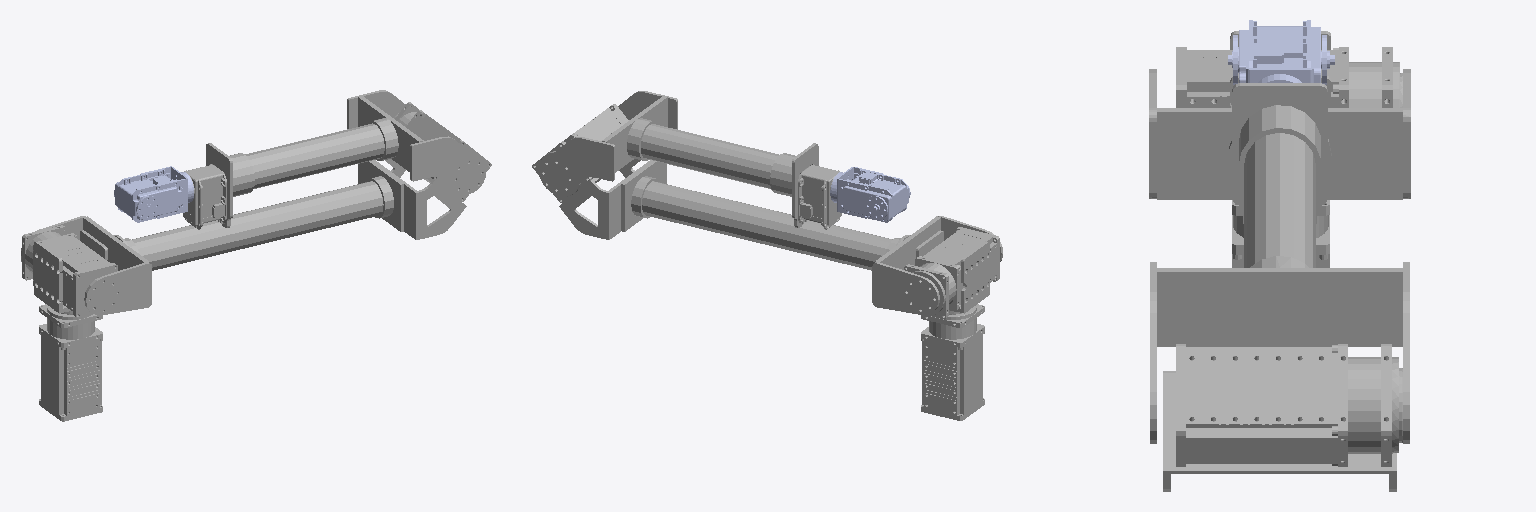
URDF robot description (manipulator_22):
<?xml version="1.0" encoding="utf-8"?>
<!-- This URDF was automatically created by SolidWorks to URDF Exporter! Originally created by [author] ([email redacted]) 
     Commit Version: 1.5.1-0-g916b5db  Build Version: 1.5.7152.31018
     For more information, please see http://wiki.ros.org/sw_urdf_exporter -->
<robot
  name="manipulator_22">
  <link
    name="base_link">
    <inertial>
      <origin
        xyz="-6.38743605427261E-06 -4.43534306504567E-11 0.0608318718443308"
        rpy="0 0 0" />
      <mass
        value="0.333983111157547" />
      <inertia
        ixx="0.000496910727247845"
        ixy="3.82277675453432E-13"
        ixz="-6.77055004679555E-08"
        iyy="0.000497529910998442"
        iyz="-1.15275147285889E-13"
        izz="0.000146583323080333" />
    </inertial>
    <visual>
      <origin
        xyz="0 0 0"
        rpy="0 0 0" />
      <geometry>
        <mesh
          filename="package://manipulator_22/meshes/base_link.STL" />
      </geometry>
      <material
        name="">
        <color
          rgba="0.745098039215686 0.745098039215686 0.745098039215686 1" />
      </material>
    </visual>
    <collision>
      <origin
        xyz="0 0 0"
        rpy="0 0 0" />
      <geometry>
        <mesh
          filename="package://manipulator_22/meshes/base_link.STL" />
      </geometry>
    </collision>
  </link>
  <link
    name="Link1">
    <inertial>
      <origin
        xyz="-8.67377909865852E-05 0.00244133920899098 0.0381592042066477"
        rpy="0 0 0" />
      <mass
        value="0.385049302606991" />
      <inertia
        ixx="0.000533842610757906"
        ixy="-1.15275509729985E-13"
        ixz="3.82277719043095E-13"
        iyy="0.000198645982170829"
        iyz="1.63662117754183E-08"
        izz="0.000536773320051663" />
    </inertial>
    <visual>
      <origin
        xyz="0 0 0"
        rpy="0 0 0" />
      <geometry>
        <mesh
          filename="package://manipulator_22/meshes/Link1.STL" />
      </geometry>
      <material
        name="">
        <color
          rgba="0.745098039215686 0.745098039215686 0.745098039215686 1" />
      </material>
    </visual>
    <collision>
      <origin
        xyz="0 0 0"
        rpy="0 0 0" />
      <geometry>
        <mesh
          filename="package://manipulator_22/meshes/Link1.STL" />
      </geometry>
    </collision>
  </link>
  <joint
    name="Joint1"
    type="revolute">
    <origin
      xyz="0 0 0.126"
      rpy="0 0 0" />
    <parent
      link="base_link" />
    <child
      link="Link1" />
    <axis
      xyz="0 0 -1" />
    <limit
      lower="0"
      upper="0"
      effort="0"
      velocity="0" />
  </joint>
  <link
    name="Link2">
    <inertial>
      <origin
        xyz="0.371905354380137 0.00165563776791316 0.0227339447813084"
        rpy="0 0 0" />
      <mass
        value="0.571594617730373" />
      <inertia
        ixx="0.000945606698246167"
        ixy="3.50914236000084E-08"
        ixz="-6.37777967009732E-06"
        iyy="0.00244776051568794"
        iyz="-5.42079619875058E-08"
        izz="0.00312788694887439" />
    </inertial>
    <visual>
      <origin
        xyz="0 0 0"
        rpy="0 0 0" />
      <geometry>
        <mesh
          filename="package://manipulator_22/meshes/Link2.STL" />
      </geometry>
      <material
        name="">
        <color
          rgba="0.745098039215686 0.745098039215686 0.745098039215686 1" />
      </material>
    </visual>
    <collision>
      <origin
        xyz="0 0 0"
        rpy="0 0 0" />
      <geometry>
        <mesh
          filename="package://manipulator_22/meshes/Link2.STL" />
      </geometry>
    </collision>
  </link>
  <joint
    name="Joint2"
    type="revolute">
    <origin
      xyz="-0.0001 -0.0005 0.0401"
      rpy="0 0 0" />
    <parent
      link="Link1" />
    <child
      link="Link2" />
    <axis
      xyz="0 1 0" />
    <limit
      lower="0"
      upper="0"
      effort="0"
      velocity="0" />
  </joint>
  <link
    name="Link3">
    <inertial>
      <origin
        xyz="-0.176443622509374 6.65679194063358E-07 0.0251330092950819"
        rpy="0 0 0" />
      <mass
        value="0.213783167310657" />
      <inertia
        ixx="0.000317311750836855"
        ixy="2.32620754752417E-08"
        ixz="4.59930334557955E-05"
        iyy="0.00130919022394782"
        iyz="5.00350160368701E-09"
        izz="0.00150313053960511" />
    </inertial>
    <visual>
      <origin
        xyz="0 0 0"
        rpy="0 0 0" />
      <geometry>
        <mesh
          filename="package://manipulator_22/meshes/Link3.STL" />
      </geometry>
      <material
        name="">
        <color
          rgba="0.745098039215686 0.745098039215686 0.745098039215686 1" />
      </material>
    </visual>
    <collision>
      <origin
        xyz="0 0 0"
        rpy="0 0 0" />
      <geometry>
        <mesh
          filename="package://manipulator_22/meshes/Link3.STL" />
      </geometry>
    </collision>
  </link>
  <joint
    name="Joint3"
    type="revolute">
    <origin
      xyz="0.468 0 0.037485"
      rpy="0 0 0" />
    <parent
      link="Link2" />
    <child
      link="Link3" />
    <axis
      xyz="0 1 0" />
    <limit
      lower="0"
      upper="0"
      effort="0"
      velocity="0" />
  </joint>
  <link
    name="Link4">
    <inertial>
      <origin
        xyz="-0.044080131139705 -6.03601900496815E-05 -6.63098465025769E-11"
        rpy="0 0 0" />
      <mass
        value="0.0993584391570141" />
      <inertia
        ixx="2.72146759283529E-05"
        ixy="3.82942433999864E-07"
        ixz="-1.81253715083254E-13"
        iyy="3.57338128115307E-05"
        iyz="-1.63961694187052E-13"
        izz="4.55192356645138E-05" />
    </inertial>
    <visual>
      <origin
        xyz="0 0 0"
        rpy="0 0 0" />
      <geometry>
        <mesh
          filename="package://manipulator_22/meshes/Link4.STL" />
      </geometry>
      <material
        name="">
        <color
          rgba="0.792156862745098 0.819607843137255 0.933333333333333 1" />
      </material>
    </visual>
    <collision>
      <origin
        xyz="0 0 0"
        rpy="0 0 0" />
      <geometry>
        <mesh
          filename="package://manipulator_22/meshes/Link4.STL" />
      </geometry>
    </collision>
  </link>
  <joint
    name="Joint4"
    type="revolute">
    <origin
      xyz="-0.32033 0 0.032447"
      rpy="0 0 0" />
    <parent
      link="Link3" />
    <child
      link="Link4" />
    <axis
      xyz="1 0 0" />
    <limit
      lower="0"
      upper="0"
      effort="0"
      velocity="0" />
  </joint>
  <link
    name="Link5">
    <inertial>
      <origin
        xyz="-0.0912523559607206 -2.20820126664058E-07 -0.00506481858698543"
        rpy="0 0 0" />
      <mass
        value="0.234118251843822" />
      <inertia
        ixx="6.33801437758479E-05"
        ixy="8.17782397235474E-09"
        ixz="8.06391152404927E-07"
        iyy="6.7952146815915E-05"
        iyz="2.67206172955682E-10"
        izz="7.2255990358747E-05" />
    </inertial>
    <visual>
      <origin
        xyz="0 0 0"
        rpy="0 0 0" />
      <geometry>
        <mesh
          filename="package://manipulator_22/meshes/Link5.STL" />
      </geometry>
      <material
        name="">
        <color
          rgba="0.686274509803922 0.686274509803922 0.686274509803922 1" />
      </material>
    </visual>
    <collision>
      <origin
        xyz="0 0 0"
        rpy="0 0 0" />
      <geometry>
        <mesh
          filename="package://manipulator_22/meshes/Link5.STL" />
      </geometry>
    </collision>
  </link>
  <joint
    name="Joint5"
    type="revolute">
    <origin
      xyz="-0.0641 0 0"
      rpy="0 0 0" />
    <parent
      link="Link4" />
    <child
      link="Link5" />
    <axis
      xyz="0 1 0" />
    <limit
      lower="0"
      upper="0"
      effort="0"
      velocity="0" />
  </joint>
</robot>

--- Render facts (derived) ---
3 views of the same robot in one strip: view 1: azimuth 30°, elevation 25°; view 2: azimuth 150°, elevation 25°; view 3: azimuth 270°, elevation 25° (orthographic).
Model manipulator_22 with 6 links and 5 joints (5 revolute), rooted at base_link, posed every joint at zero.
Visible links, largest first — view 1: Link2, Link3, base_link, Link1, Link4; view 2: Link2, Link3, base_link, Link1, Link4; view 3: Link2, Link3, Link1, Link4, base_link.
Boxes of the visible links, x1,y1,x2,y2 form: Link2: (21, 102, 491, 314); Link3: (183, 90, 485, 229); base_link: (39, 304, 102, 421); Link1: (21, 225, 117, 317); Link4: (114, 166, 193, 222); Link2: (532, 104, 1002, 314); Link3: (540, 91, 841, 229); base_link: (921, 304, 984, 420); Link1: (904, 227, 999, 319); Link4: (830, 167, 910, 222); Link2: (1149, 69, 1410, 491); Link3: (1150, 83, 1409, 443); Link1: (1176, 31, 1402, 107); Link4: (1228, 20, 1334, 84); base_link: (1232, 200, 1329, 267).
Bounding box of the posed robot: 0.5358 × 0.145 × 0.2705 m (x, y, z).
Meshes: 6 distinct files referenced, 5 mesh visuals loaded (5 binary STL); not drawn: 1 (reference not matched to a file when rendering).